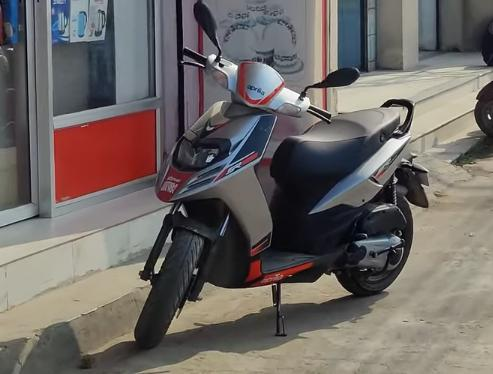scooter: (114, 33, 433, 341)
